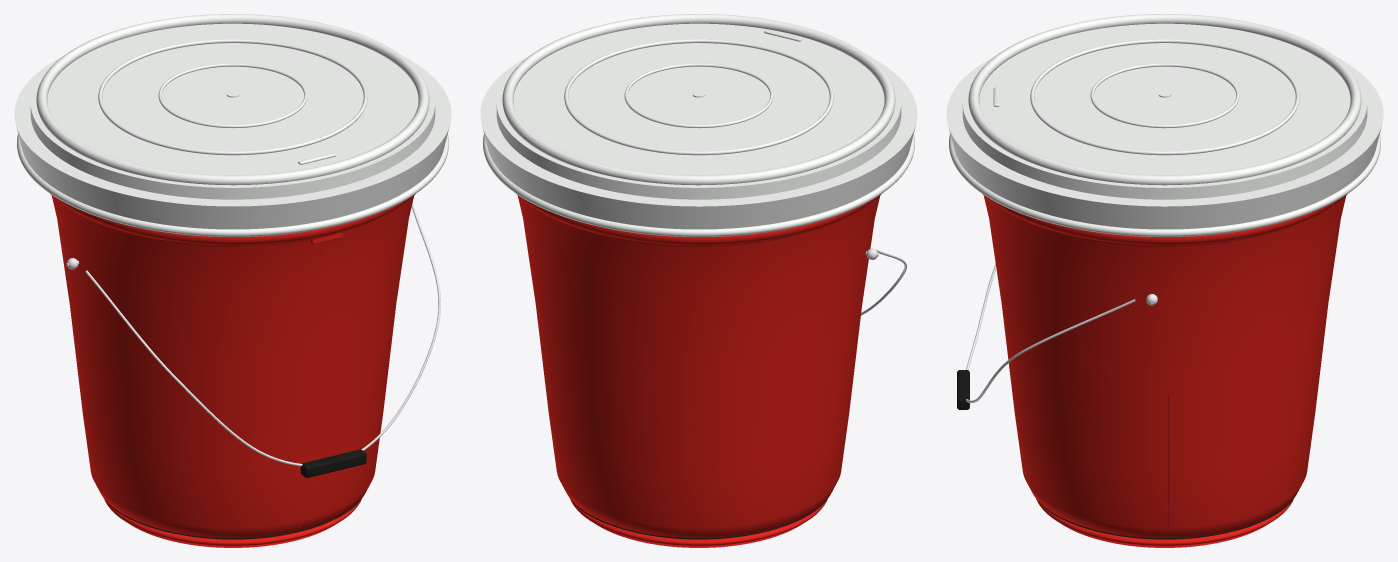
Rendered from paint-container-procedural-red-white.glb.
3 views of the same model, side by side, from view 1: azimuth 30°, elevation 25°; view 2: azimuth 150°, elevation 25°; view 3: azimuth 270°, elevation 25° (orthographic).
Parts seen in each view (by area): view 1: premium smooth tapered glossy red paint pail body, bright white snap lid side wall, small polished handle pivot rivet, fine outer bottom shadow line; view 2: premium smooth tapered glossy red paint pail body, bright white snap lid side wall; view 3: premium smooth tapered glossy red paint pail body, bright white snap lid side wall, small polished handle pivot rivet, closed recessed molded red underside disc, fine outer bottom shadow line.
Part boxes in pixels (box(x1,y1,x2,y2)): premium smooth tapered glossy red paint pail body: box(50, 194, 415, 545); bright white snap lid side wall: box(14, 14, 451, 236); small polished handle pivot rivet: box(66, 202, 440, 466); fine outer bottom shadow line: box(105, 449, 366, 539); premium smooth tapered glossy red paint pail body: box(516, 194, 881, 545); bright white snap lid side wall: box(480, 14, 917, 236); premium smooth tapered glossy red paint pail body: box(982, 194, 1347, 545); bright white snap lid side wall: box(946, 14, 1383, 236); small polished handle pivot rivet: box(966, 264, 1157, 403); closed recessed molded red underside disc: box(1062, 393, 1267, 547); fine outer bottom shadow line: box(957, 370, 1293, 539).
Size of the model in its own units: 2.7 by 2.75 by 2.7.
5 materials, 5 textured.
